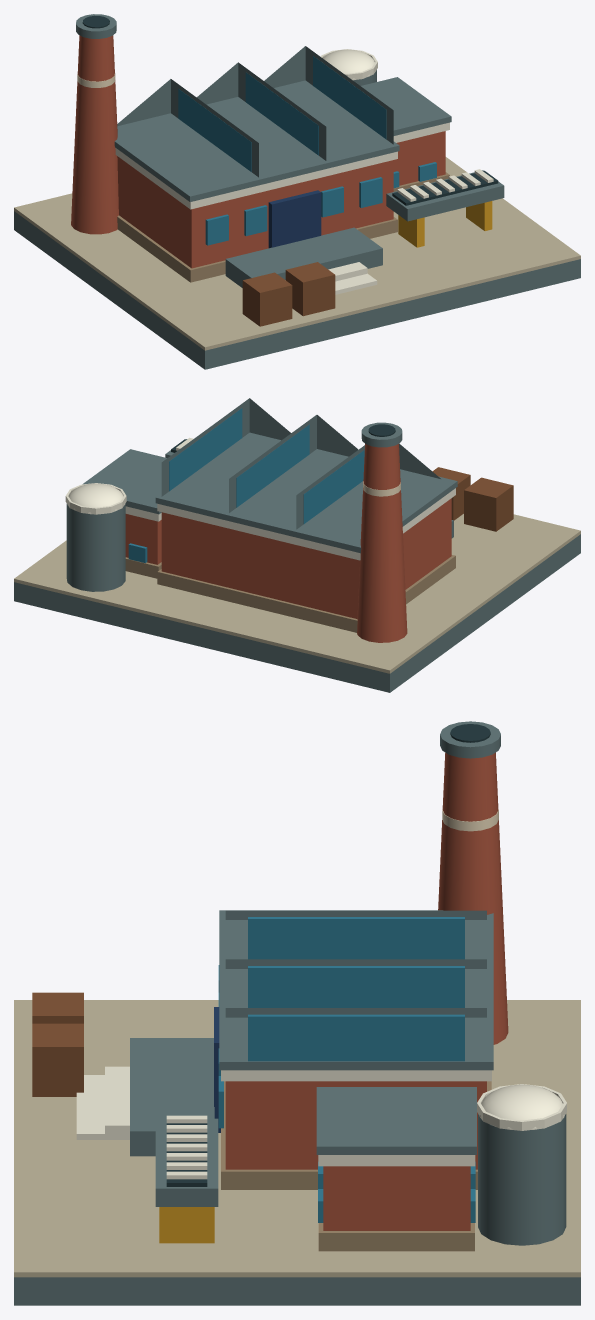
File: factory-lv2.glb
The picture shows the model from 3 angles, top to bottom: view 1: azimuth 30°, elevation 25°; view 2: azimuth 150°, elevation 25°; view 3: azimuth 270°, elevation 25°; orthographic projection. The views are drawn at different scales.
Parts seen in each view (by area): view 1: foundation_paving, main_workshop_roof_iron, main_workshop_clay, foundation_iron, chimney_clay, main_workshop_skylights_glass, main_workshop_sawtooth_iron, loading_platform_iron, supply_crates_wood, warehouse_roof_iron, main_workshop_windows_glass, main_workshop_loading_door_naval (+11 smaller); view 2: foundation_paving, main_workshop_clay, main_workshop_roof_iron, foundation_iron, chimney_clay, main_workshop_skylights_glass, main_workshop_sawtooth_iron, supply_tank_iron, main_workshop_stoneDark, supply_crates_wood, warehouse_roof_iron, main_workshop_white (+4 smaller); view 3: foundation_paving, main_workshop_skylights_glass, foundation_iron, warehouse_roof_iron, main_workshop_roof_iron, chimney_clay, supply_tank_iron, warehouse_clay, main_workshop_clay, loading_platform_iron, main_workshop_sawtooth_iron, supply_crates_wood (+11 smaller).
Boxes of the visible parts, bbox=[...] form: foundation_paving: bbox=[14, 157, 580, 350]; main_workshop_roof_iron: bbox=[114, 80, 399, 201]; main_workshop_clay: bbox=[117, 156, 393, 268]; foundation_iron: bbox=[14, 211, 580, 369]; chimney_clay: bbox=[71, 35, 118, 234]; main_workshop_skylights_glass: bbox=[178, 56, 386, 171]; main_workshop_sawtooth_iron: bbox=[117, 46, 393, 177]; loading_platform_iron: bbox=[225, 227, 382, 287]; supply_crates_wood: bbox=[242, 262, 335, 326]; warehouse_roof_iron: bbox=[361, 77, 451, 135]; main_workshop_windows_glass: bbox=[205, 177, 382, 245]; main_workshop_loading_door_naval: bbox=[268, 190, 321, 248]; foundation_paving: bbox=[14, 514, 580, 673]; main_workshop_clay: bbox=[161, 498, 451, 618]; main_workshop_roof_iron: bbox=[155, 432, 457, 553]; foundation_iron: bbox=[14, 534, 580, 692]; chimney_clay: bbox=[357, 444, 407, 642]; main_workshop_skylights_glass: bbox=[169, 408, 364, 523]; main_workshop_sawtooth_iron: bbox=[161, 398, 440, 529]; supply_tank_iron: bbox=[66, 503, 125, 591]; main_workshop_stoneDark: bbox=[157, 555, 455, 632]; supply_crates_wood: bbox=[432, 467, 513, 531]; warehouse_roof_iron: bbox=[82, 449, 166, 514]; main_workshop_white: bbox=[157, 488, 455, 560]; foundation_paving: bbox=[14, 1000, 580, 1277]; main_workshop_skylights_glass: bbox=[248, 917, 464, 1061]; foundation_iron: bbox=[14, 1277, 580, 1305]; warehouse_roof_iron: bbox=[316, 1087, 476, 1154]; main_workshop_roof_iron: bbox=[219, 910, 493, 1070]; chimney_clay: bbox=[438, 752, 508, 1044]; supply_tank_iron: bbox=[478, 1114, 566, 1245]; warehouse_clay: bbox=[323, 1166, 470, 1230]; main_workshop_clay: bbox=[225, 1081, 486, 1169]; loading_platform_iron: bbox=[130, 1038, 214, 1156]; main_workshop_sawtooth_iron: bbox=[225, 910, 486, 1017]; supply_crates_wood: bbox=[32, 992, 83, 1096].
Size of the model in its own units: 1 by 0.5711 by 0.88.
